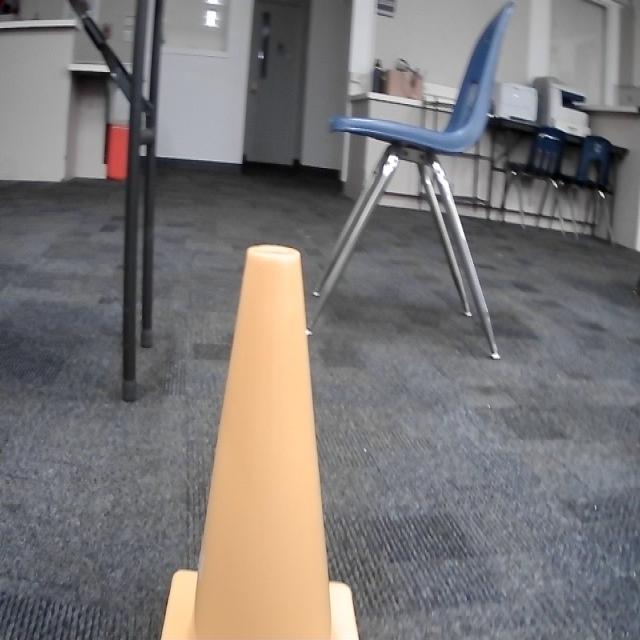cone: (162, 246, 362, 640)
